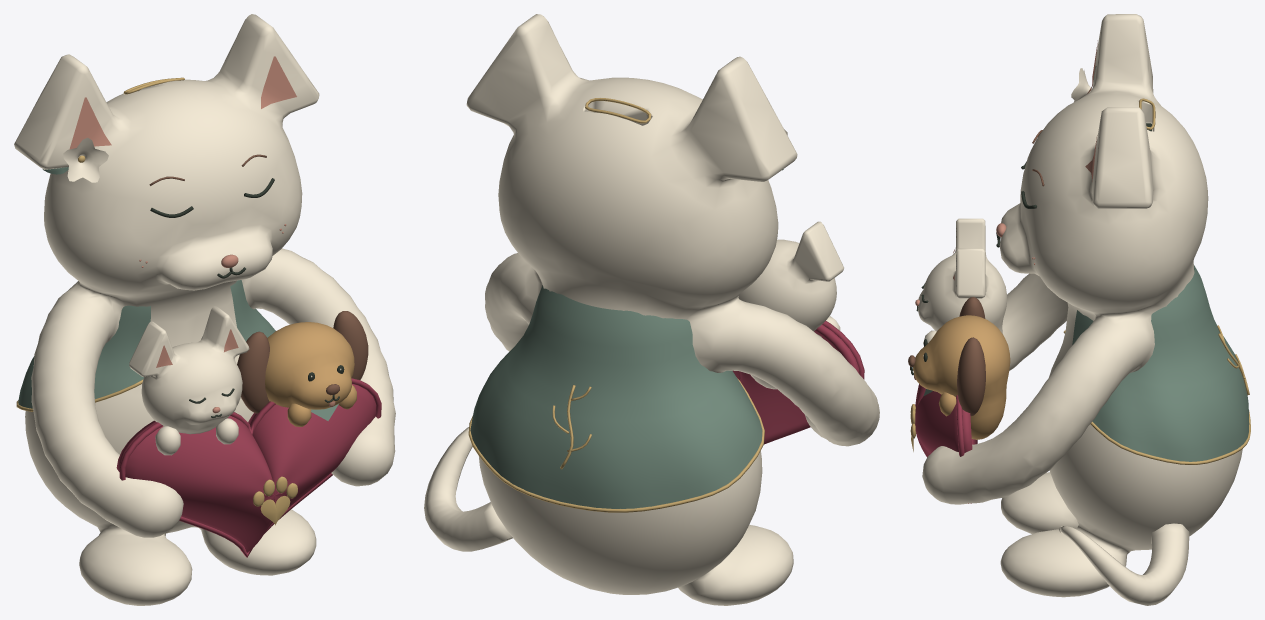
Rendered from pets-family.v1.glb.
The picture shows the model from 3 angles, left to right: view 1: azimuth 30°, elevation 25°; view 2: azimuth 150°, elevation 25°; view 3: azimuth 270°, elevation 25°; orthographic projection. The views are drawn at different scales.
Visible parts, largest first — view 1: Pets Family | Porcelain, Pets Family | Garnet, Pets Family | Honey, Pets Family | Sage, Pets Family | Walnut, Pets Family | Rose, Pets Family | Gold, Pets Family | Ink; view 2: Pets Family | Porcelain, Pets Family | Sage, Pets Family | Garnet, Pets Family | Gold; view 3: Pets Family | Porcelain, Pets Family | Sage, Pets Family | Honey, Pets Family | Garnet, Pets Family | Walnut, Pets Family | Gold.
Part boxes in pixels (x1,y1,x2,y2): Pets Family | Porcelain: (14,14,395,605); Pets Family | Garnet: (116,378,381,557); Pets Family | Honey: (265,322,356,426); Pets Family | Sage: (18,167,338,420); Pets Family | Walnut: (149,154,368,413); Pets Family | Rose: (69,56,335,413); Pets Family | Gold: (16,77,297,525); Pets Family | Ink: (150,178,344,417); Pets Family | Porcelain: (424,14,879,605); Pets Family | Sage: (470,169,783,508); Pets Family | Garnet: (733,321,864,444); Pets Family | Gold: (468,98,764,512); Pets Family | Porcelain: (918,14,1242,605); Pets Family | Sage: (923,66,1249,461); Pets Family | Honey: (913,315,1010,439); Pets Family | Garnet: (915,384,977,503); Pets Family | Walnut: (908,130,1044,416); Pets Family | Gold: (910,92,1250,464).
Bounding box in the file's own units: 0.7132 × 1 × 0.6201.
